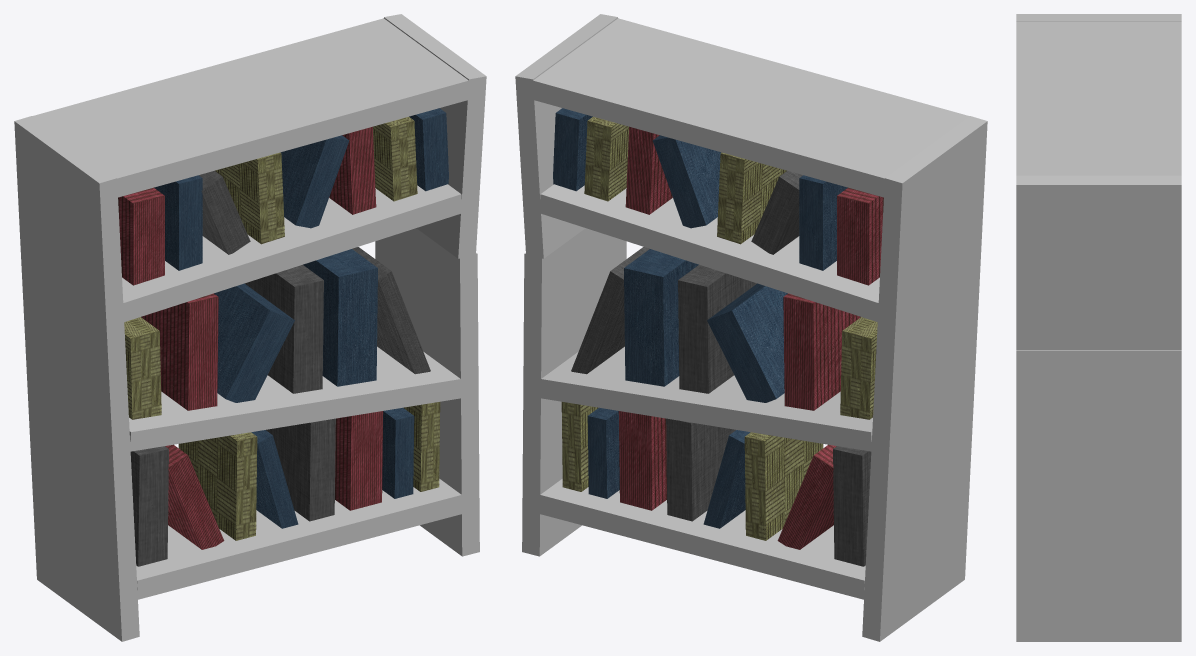
File: Bookshelf1.fbx
The picture shows the model from 3 angles, left to right: view 1: azimuth 30°, elevation 25°; view 2: azimuth 150°, elevation 25°; view 3: azimuth 270°, elevation 25°; orthographic projection. The views are drawn at different scales.
Parts seen in each view (by area): view 1: Cube, Cube.002, Cube.001, Cube.006, Cube.005, Cube.004, Cube.003, Cube.016, Cube.018, Cube.019, Cube.017, Cube.023 (+17 smaller); view 2: Cube, Cube.002, Cube.001, Cube.006, Cube.005, Cube.004, Cube.003, Cube.016, Cube.018, Cube.019, Cube.017, Cube.023 (+17 smaller); view 3: Cube.001, Cube.003, Cube.002, Cube.
Part boxes in pixels (x1,y1,x2,y2): Cube: [14, 116, 139, 641]; Cube.002: [32, 18, 468, 197]; Cube.001: [375, 228, 479, 556]; Cube.006: [121, 184, 461, 322]; Cube.005: [129, 346, 471, 451]; Cube.004: [136, 479, 461, 599]; Cube.003: [384, 14, 486, 258]; Cube.016: [303, 249, 377, 386]; Cube.018: [214, 283, 294, 402]; Cube.019: [141, 293, 218, 410]; Cube.017: [245, 264, 323, 393]; Cube.023: [178, 432, 257, 540]; Cube: [862, 116, 987, 641]; Cube.002: [532, 18, 969, 197]; Cube.001: [522, 228, 626, 556]; Cube.006: [539, 184, 880, 321]; Cube.005: [541, 346, 872, 451]; Cube.004: [537, 479, 865, 599]; Cube.003: [515, 14, 617, 258]; Cube.016: [624, 249, 698, 386]; Cube.018: [707, 283, 787, 402]; Cube.019: [783, 293, 860, 410]; Cube.017: [678, 264, 756, 393]; Cube.023: [744, 432, 823, 540]; Cube.001: [1016, 350, 1181, 641]; Cube.003: [1016, 175, 1181, 349]; Cube.002: [1016, 21, 1181, 175]; Cube: [1016, 14, 1181, 21].
Bounding box in the file's own units: 525 × 619 × 200.
